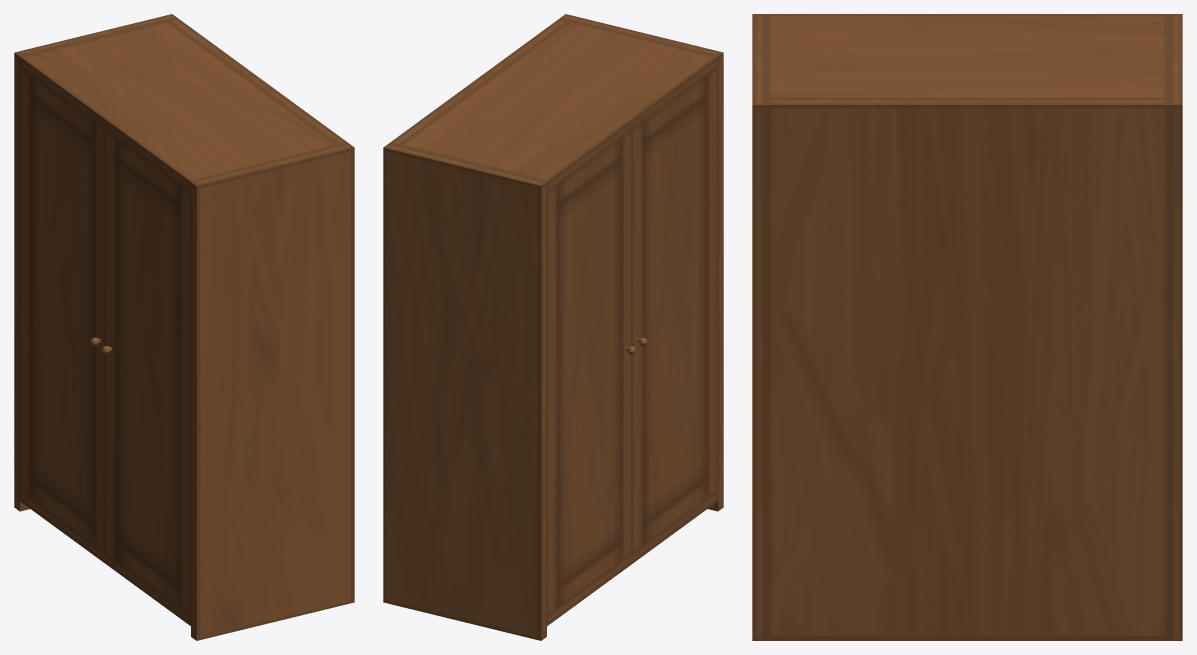
The model's file is Lemari_Baju.fbx.
3 views of the same model, side by side, from view 1: azimuth 30°, elevation 25°; view 2: azimuth 150°, elevation 25°; view 3: azimuth 270°, elevation 25° (orthographic). The views are drawn at different scales.
Visible parts, largest first — view 1: Cube, Cube.001, Cube.002; view 2: Cube, Cube.002, Cube.001; view 3: Cube.
Part boxes in pixels (x1=…): Cube: x1=14, y1=14, x2=354, y2=640; Cube.001: x1=102, y1=130, x2=190, y2=615; Cube.002: x1=20, y1=67, x2=105, y2=552; Cube: x1=383, y1=14, x2=723, y2=640; Cube.002: x1=547, y1=130, x2=635, y2=615; Cube.001: x1=632, y1=67, x2=717, y2=552; Cube: x1=752, y1=14, x2=1182, y2=640.
Size of the model in its own units: 84.42 by 220 by 160.
Materials: 1 (1 with a texture image).
